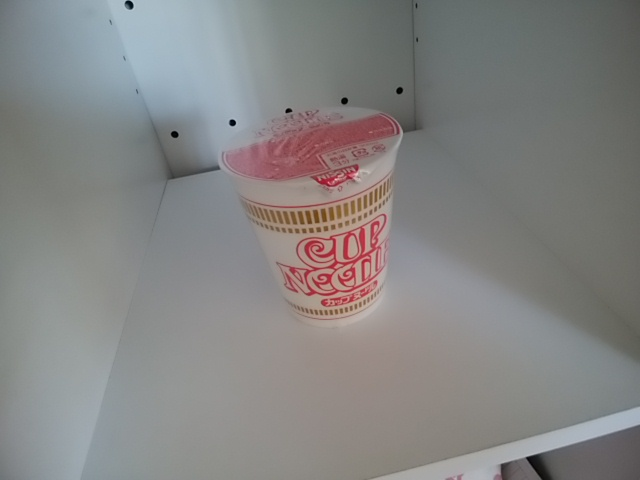cup-ramen: (216, 105, 412, 325)
